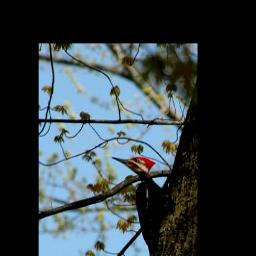Woodpecker: (108, 154, 171, 256)
